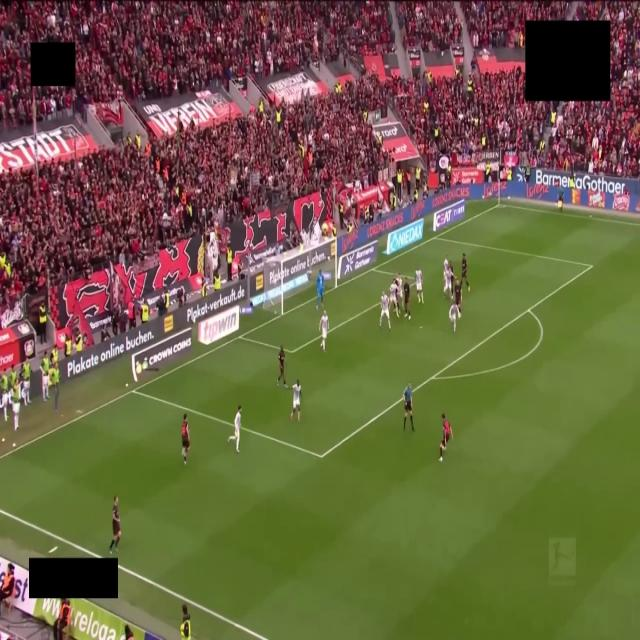player: (439, 414, 452, 462), (228, 405, 241, 452), (110, 496, 120, 553), (11, 380, 21, 431), (290, 380, 301, 422), (0, 371, 9, 422), (40, 352, 49, 401), (20, 361, 30, 405), (277, 345, 287, 388), (181, 414, 189, 464), (380, 291, 390, 329), (460, 254, 470, 291), (390, 280, 399, 317), (320, 311, 328, 351), (444, 264, 454, 296), (453, 279, 461, 318), (316, 271, 324, 309), (416, 268, 424, 304), (404, 277, 410, 319), (449, 302, 457, 333), (443, 256, 449, 295), (395, 274, 402, 306), (557, 181, 563, 212)
referee: (404, 384, 414, 431)
